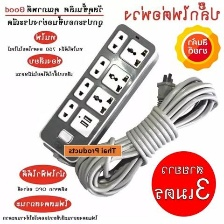three_eye_plug: (34, 19, 161, 166)
